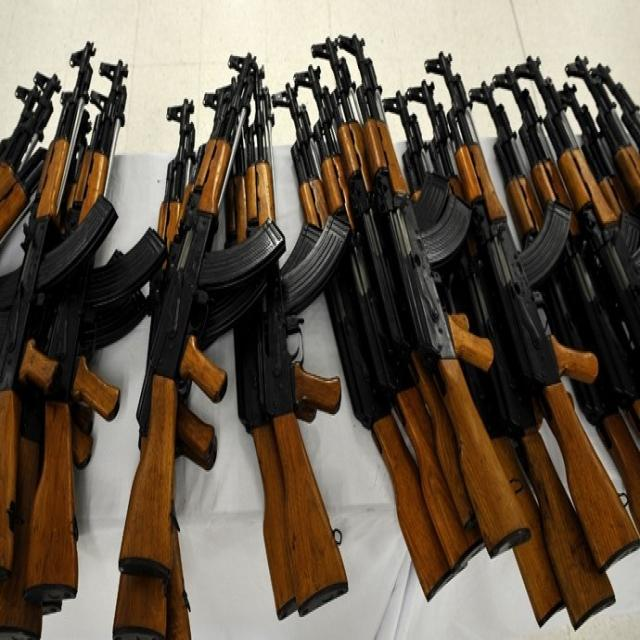ak: (341, 32, 539, 552), (122, 49, 286, 578), (0, 31, 115, 568)
